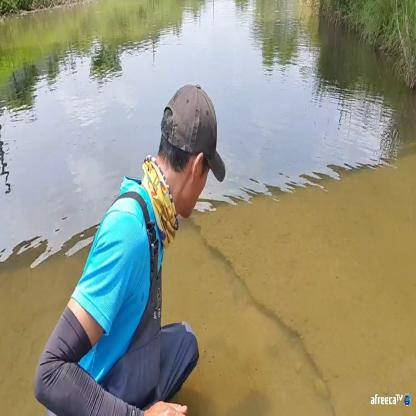streamer: (33, 84, 225, 416)
